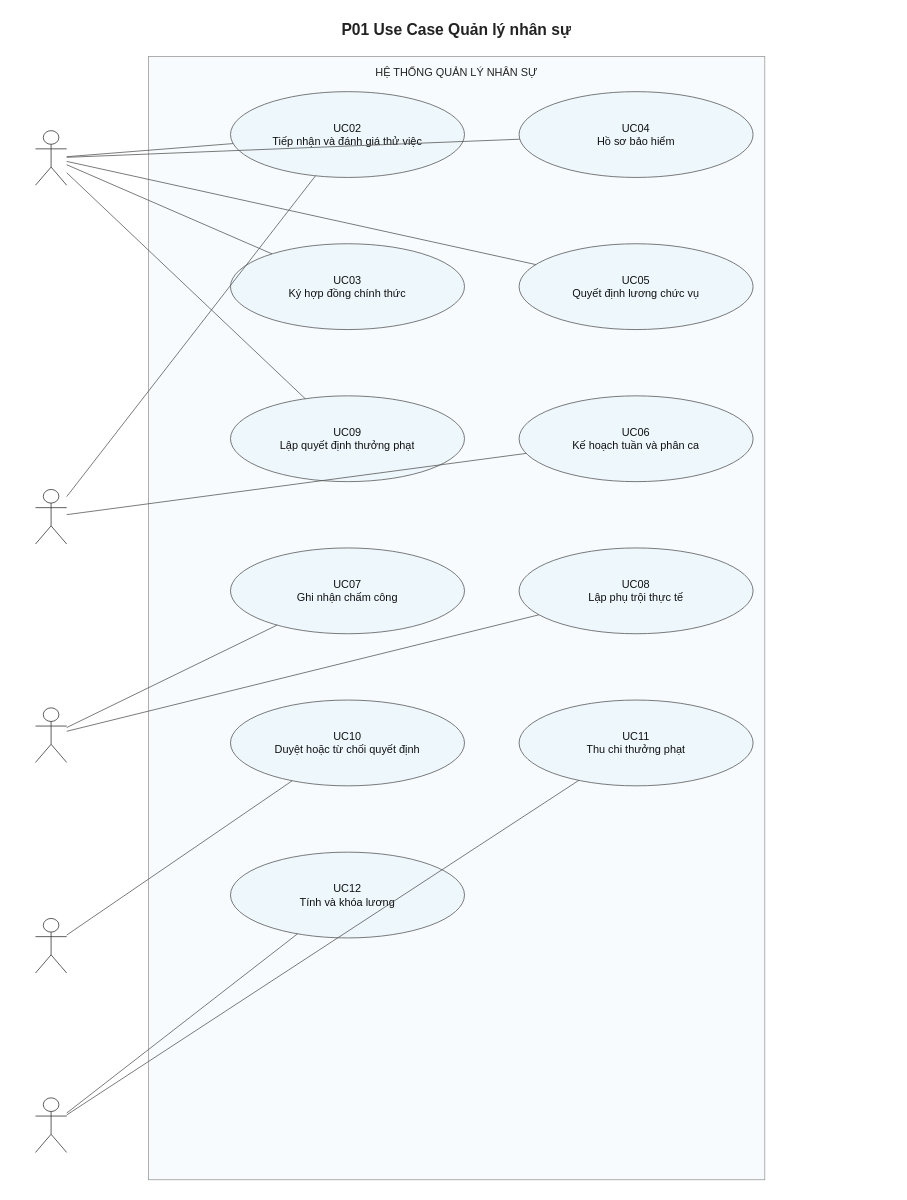
Image size: 907x1200. Some labels were removed from this diagram. The box of each missing label's shape, as (x1, y1, x2, y2) in pixels:
Ban chấm công: (35, 707, 67, 762)
Giám đốc: (35, 918, 67, 973)
Kế toán: (35, 1097, 67, 1152)
Nhân sự: (35, 130, 67, 185)
Trưởng đơn vị: (35, 489, 67, 544)
